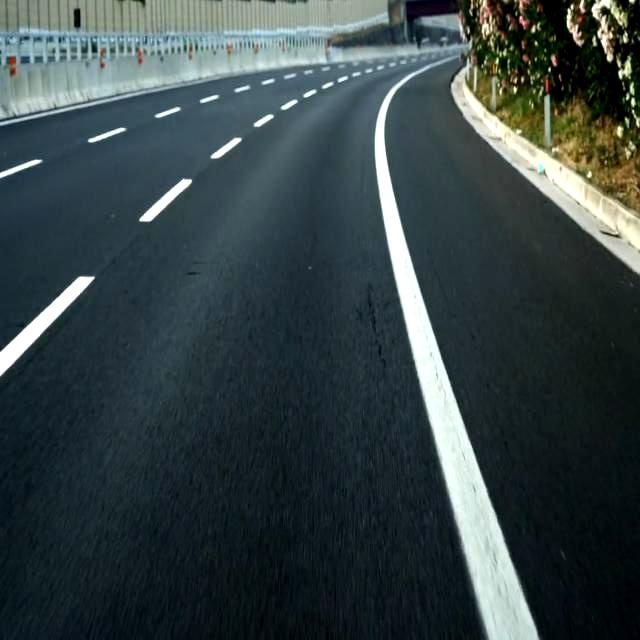road: (0, 61, 485, 639), (386, 62, 639, 639)
